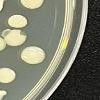white: (18, 46, 47, 65), (4, 29, 29, 47), (5, 13, 30, 29), (17, 0, 49, 11), (0, 65, 17, 85), (0, 27, 12, 39), (0, 36, 7, 52), (0, 0, 7, 13), (0, 89, 8, 100)
